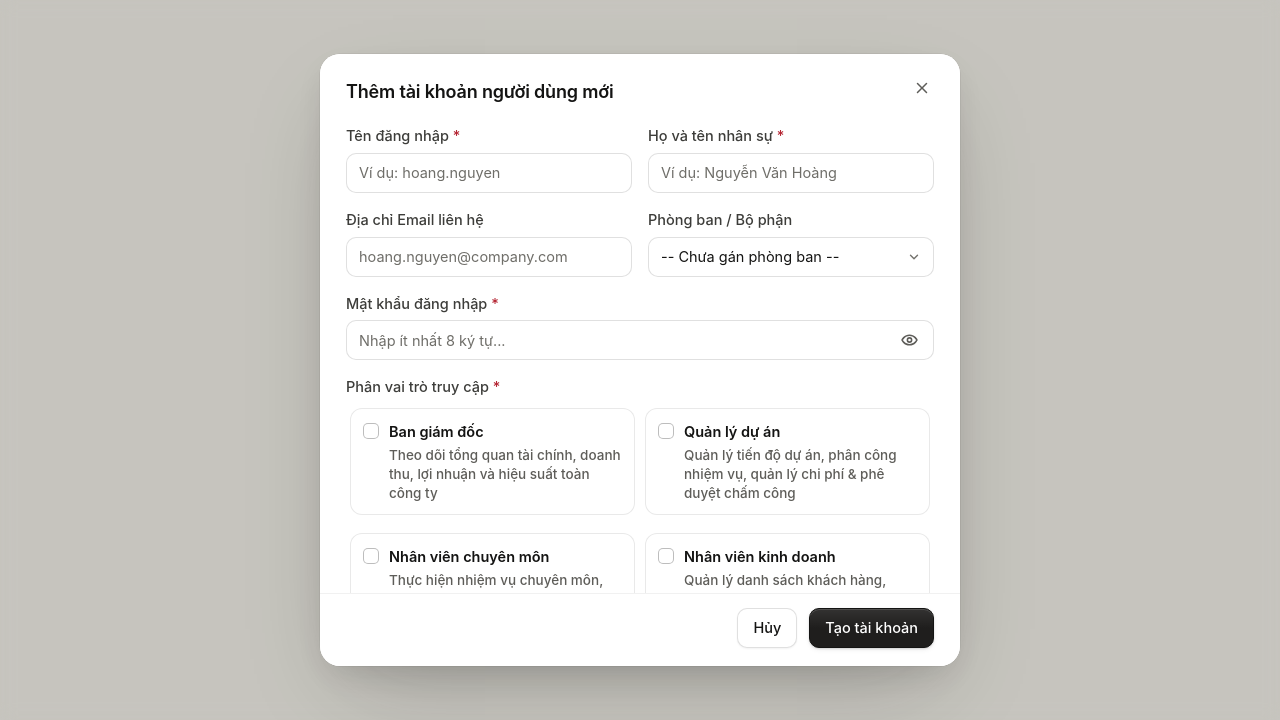
Test: User Management Module — Acceptance Criteria Tests (NCL-01-CN-002) › TC-02: UserFormModal validates required fields on creation
Click the button "Tạo tài khoản" at (872, 628), box [809,608,934,648]
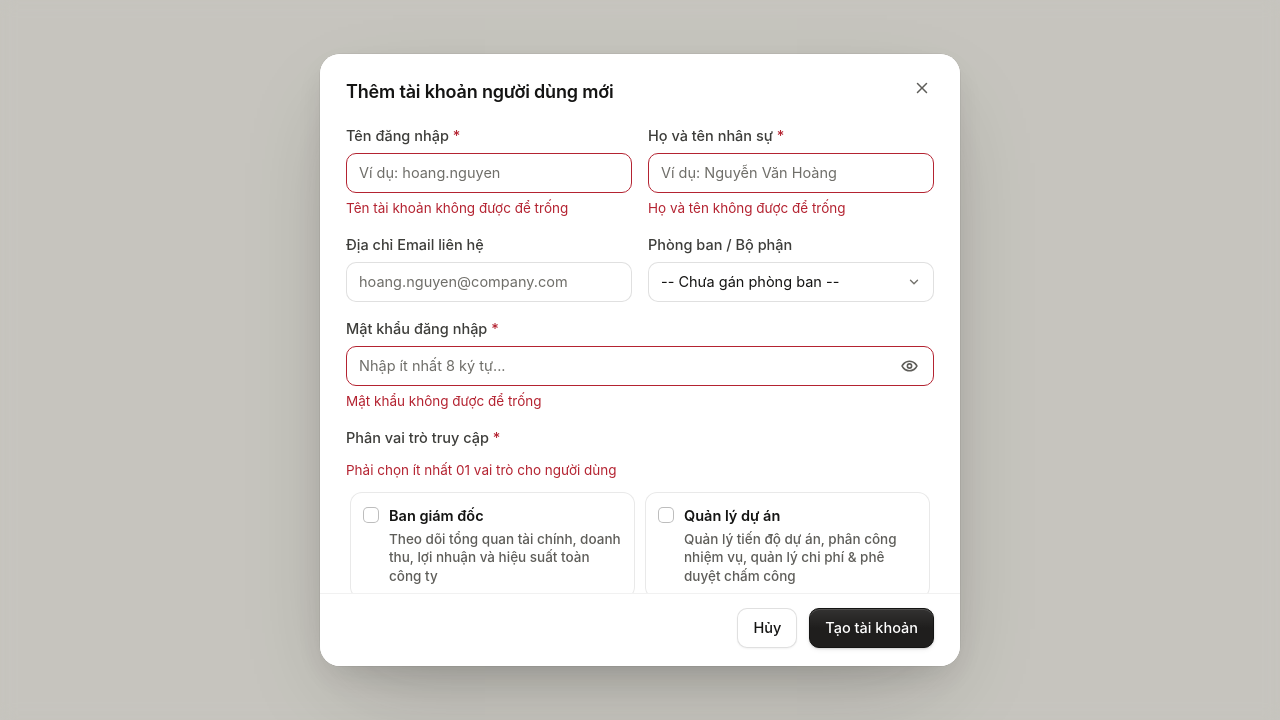
Now the text "Tên tài khoản không được để trống" is shown, box [346,200,568,216]
Now the text "Họ và tên không được để trống" is shown, box [648,200,846,216]
Now the text "Mật khẩu không được để trống" is shown, box [346,392,542,408]
